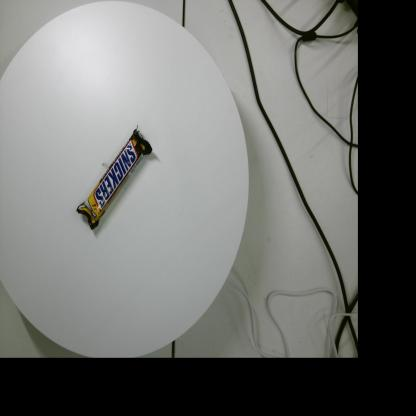Chocolate: (76, 124, 152, 230)
